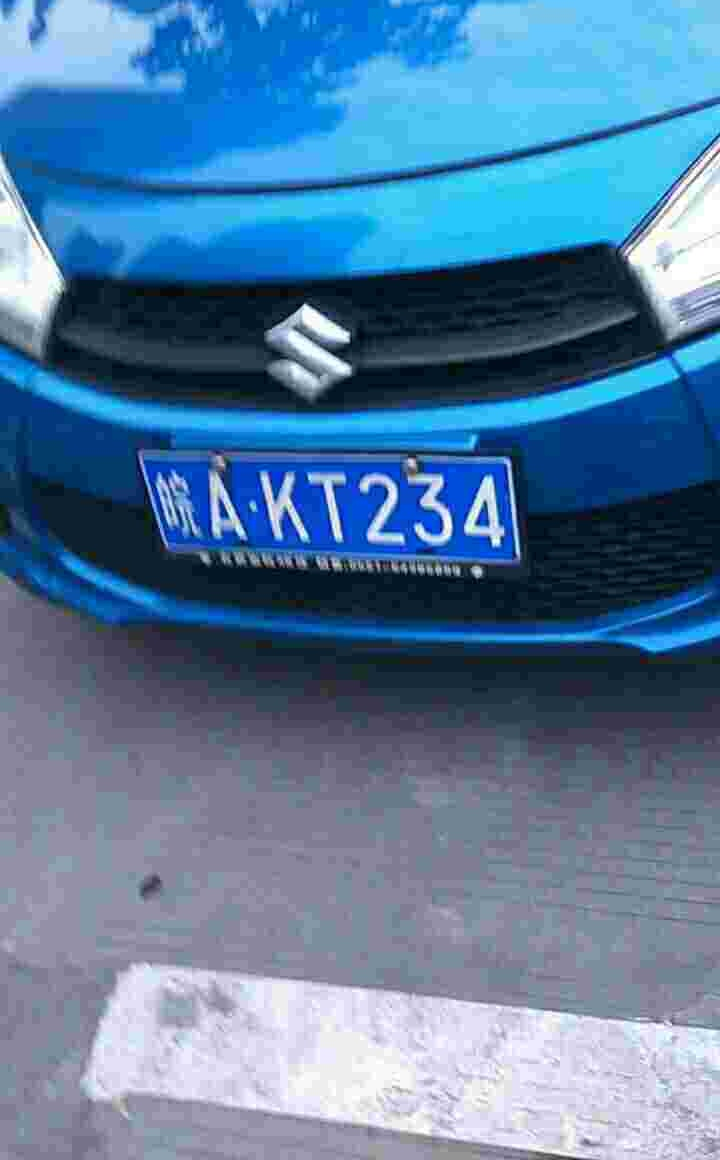license_plate: (145, 452, 513, 568)
